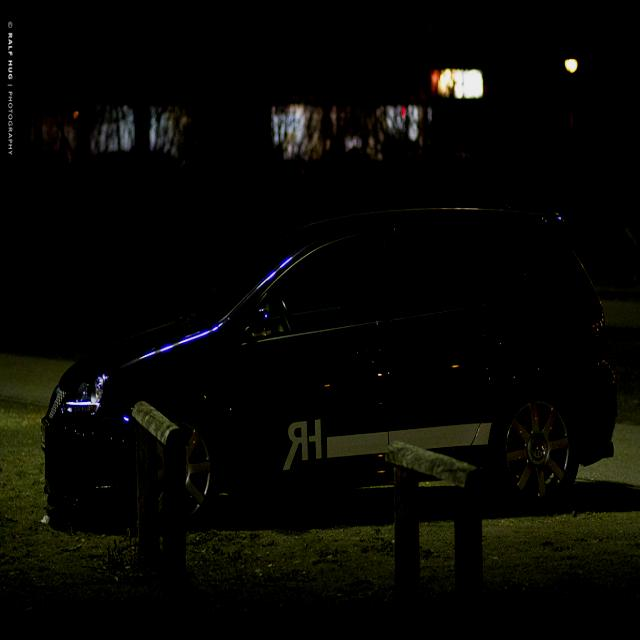Car: (47, 198, 618, 510)
